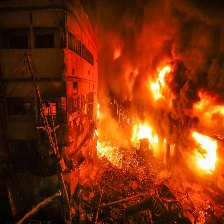fire: (129, 118, 164, 147), (190, 135, 217, 172), (152, 69, 169, 102), (94, 107, 103, 157)
smoke: (91, 6, 224, 119)
